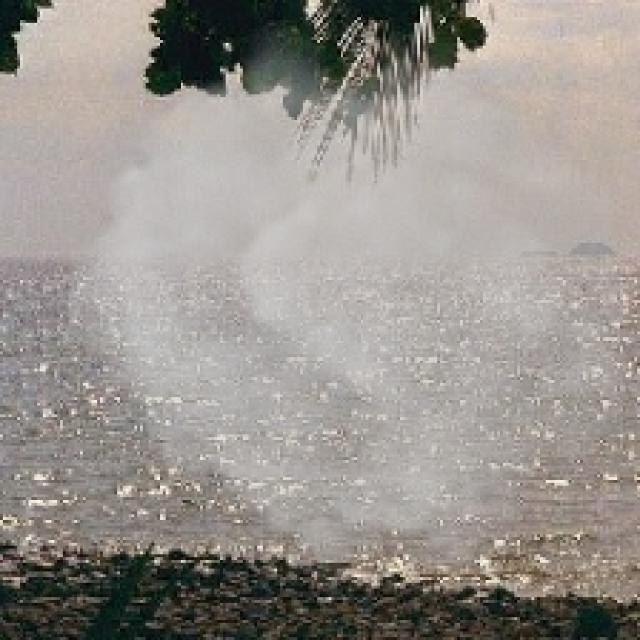Smoke: (69, 20, 626, 589)
